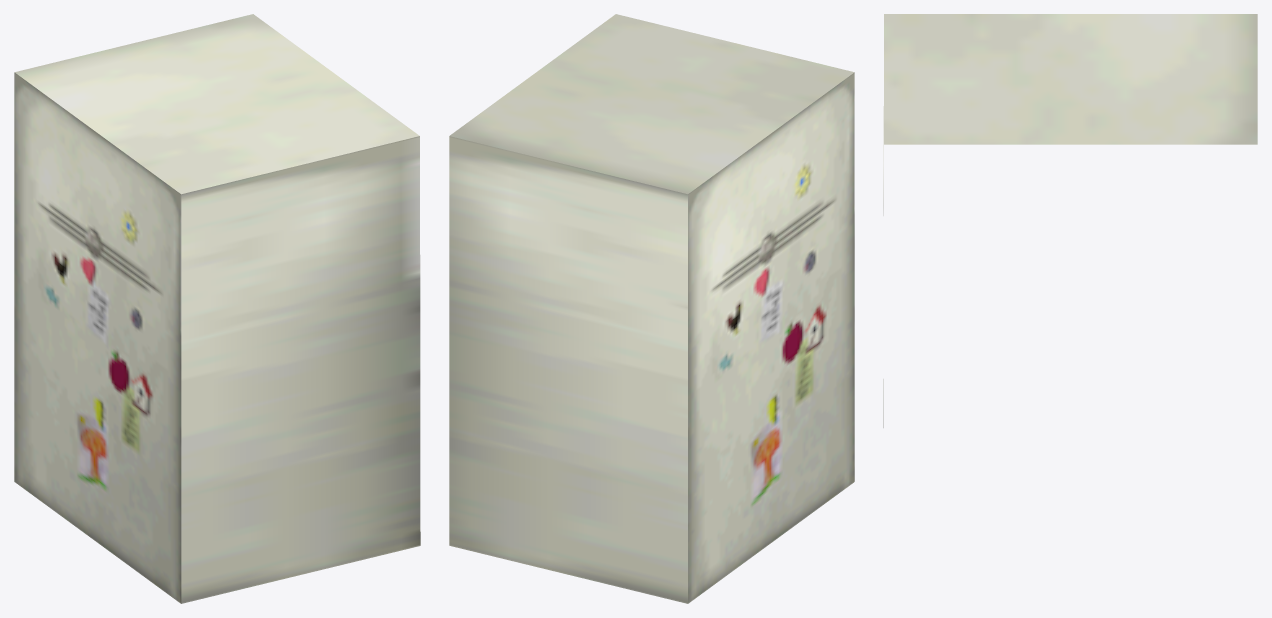
Rendered from REFIG01.glb.
3 renders of one model, left to right at view 1: azimuth 30°, elevation 25°; view 2: azimuth 150°, elevation 25°; view 3: azimuth 270°, elevation 25°, orthographic. The views are drawn at different scales.
Visible parts, largest first — view 1: REFIG01; view 2: REFIG01; view 3: REFIG01.
Part boxes in pixels (left/top/right/bottom): REFIG01: left=14, top=14, right=420, bottom=603; REFIG01: left=449, top=14, right=854, bottom=603; REFIG01: left=883, top=14, right=1257, bottom=427.
Bounding box in the file's own units: 251 × 412 × 304.
Materials: 1 (1 with a texture image).
